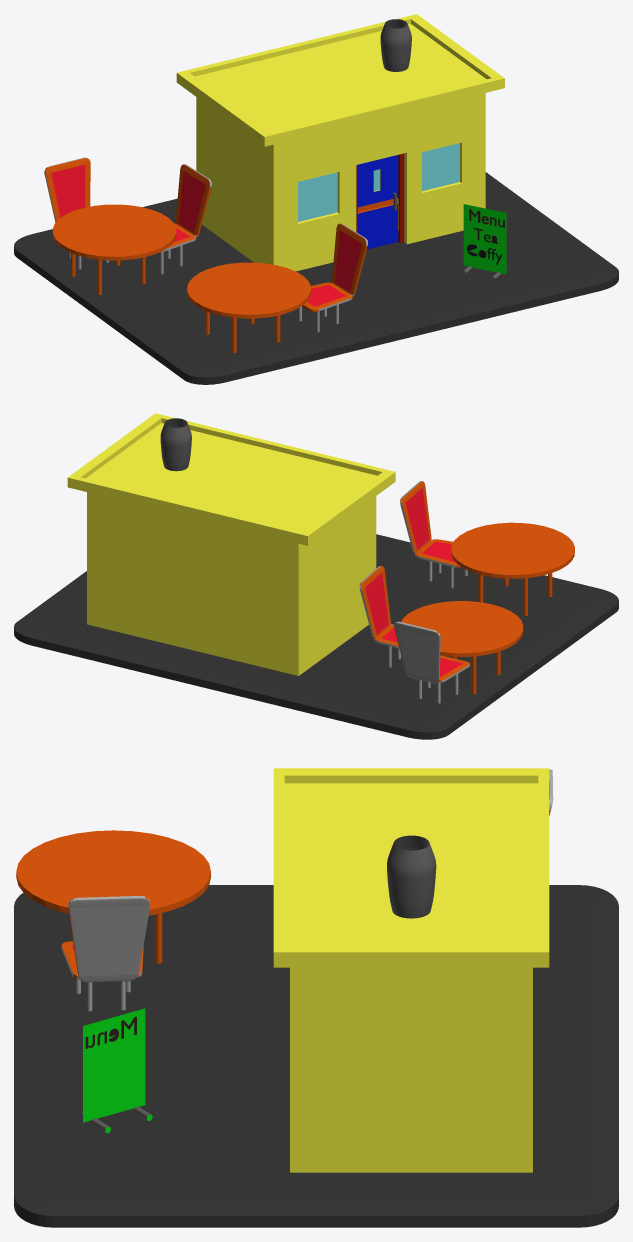
Rendered from FoodShop_02.fbx.
3 views of the same model, one above another, from view 1: azimuth 30°, elevation 25°; view 2: azimuth 150°, elevation 25°; view 3: azimuth 270°, elevation 25° (orthographic). The views are drawn at different scales.
Parts seen in each view (by area): view 1: Cube, Cube.001, Cylinder, Cube.003, Cylinder.002, Cube.002, Cube.004, Cylinder.001; view 2: Cube, Cube.001, Cylinder, Cube.004, Cube.003, Cube.002, Cylinder.001; view 3: Cube.001, Cube, Cylinder, Cube.003, Cylinder.002, Cylinder.001.
Boxes of the visible parts, x1,y1,x2,y2 form: Cube: (176,14,504,271); Cube.001: (14,172,618,384); Cylinder: (52,204,310,353); Cube.003: (299,223,367,332); Cylinder.002: (462,204,507,280); Cube.002: (158,164,211,274); Cube.004: (44,157,108,269); Cylinder.001: (380,19,411,71); Cube: (67,413,395,675); Cube.001: (14,534,618,739); Cylinder: (401,522,574,694); Cube.004: (394,621,469,703); Cube.003: (400,481,467,588); Cube.002: (359,566,400,667); Cylinder.001: (160,418,191,471); Cube.001: (14,885,618,1227); Cube: (273,768,549,1172); Cylinder: (16,830,210,963); Cube.003: (61,896,150,1011); Cylinder.002: (81,1008,152,1133); Cylinder.001: (387,835,436,918).
Bounding box in the file's own units: 1982 × 845 × 1493.
